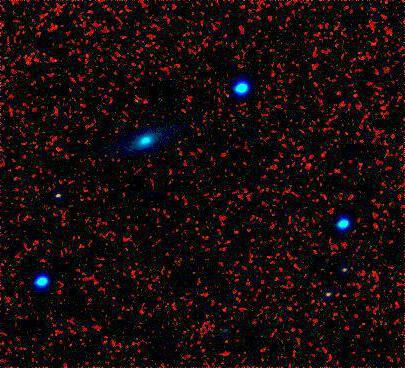star: (127, 83, 157, 113)
